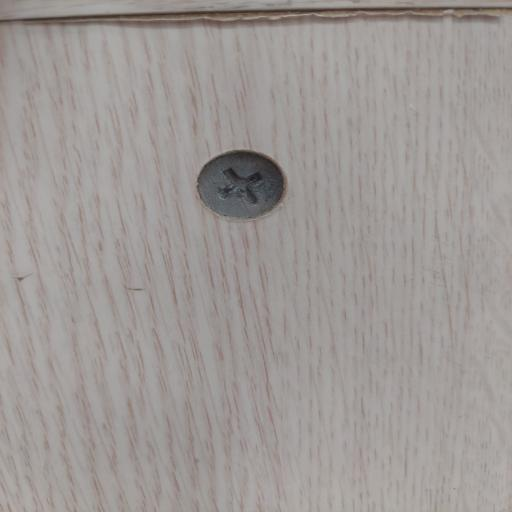Phillips: (195, 148, 292, 222)
